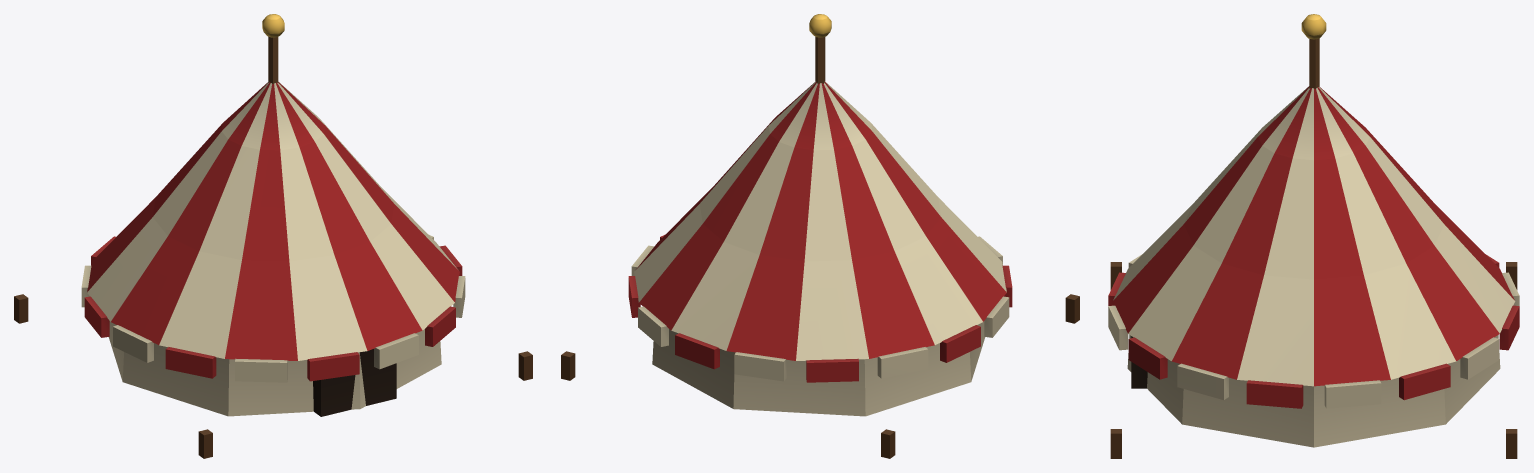
File: camp_tent.glb
The picture shows the model from 3 angles, left to right: view 1: azimuth 30°, elevation 25°; view 2: azimuth 150°, elevation 25°; view 3: azimuth 270°, elevation 25°; orthographic projection. The views are drawn at different scales.
Parts seen in each view (by area): view 1: camp_tent; view 2: camp_tent; view 3: camp_tent.
Part boxes in pixels (bbox=[...]): camp_tent: bbox=[14, 14, 532, 458]; camp_tent: bbox=[561, 14, 1079, 458]; camp_tent: bbox=[1108, 14, 1519, 458].
Bounding box in the file's own units: 0.4413 × 0.424 × 0.4413.
